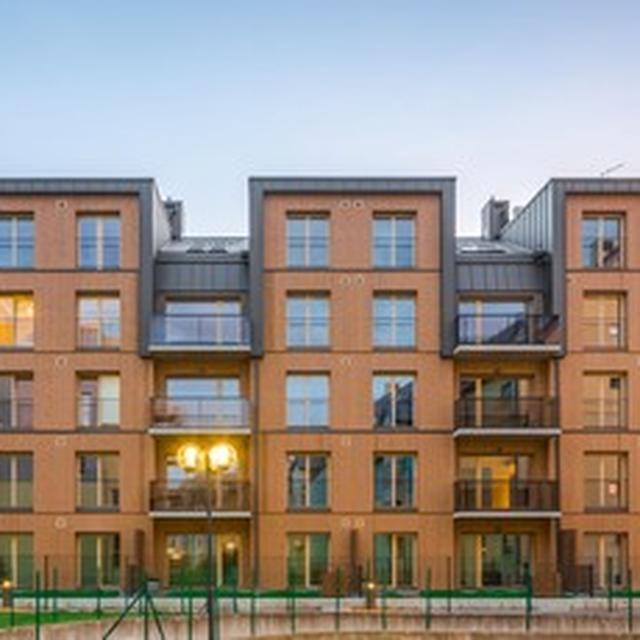building: (0, 176, 640, 596)
